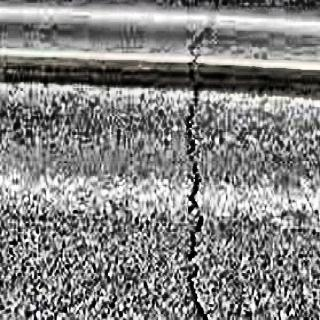crack: (179, 23, 218, 320)
